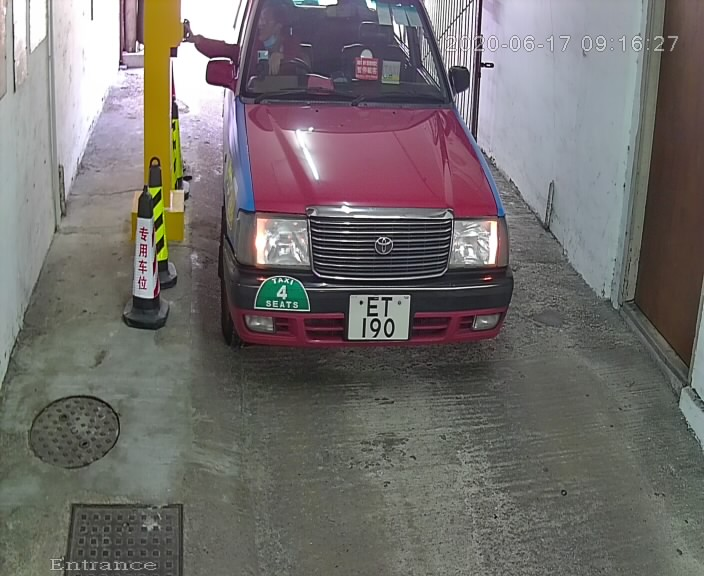taxi: (197, 2, 533, 380)
taxi_mark: (250, 268, 319, 328)
